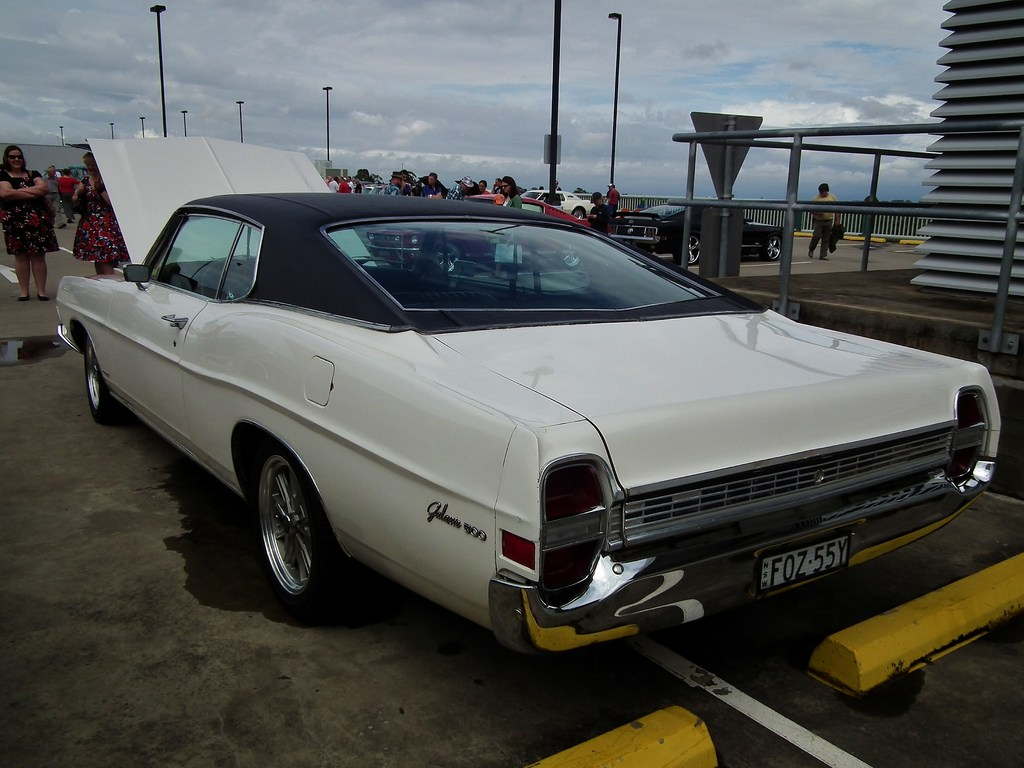Car: (56, 143, 1002, 656), (520, 188, 595, 218)
